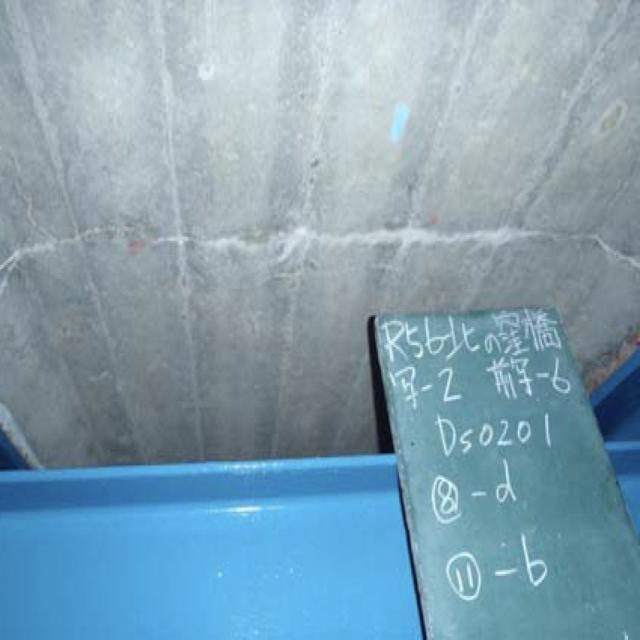freelime: (57, 210, 584, 264)
